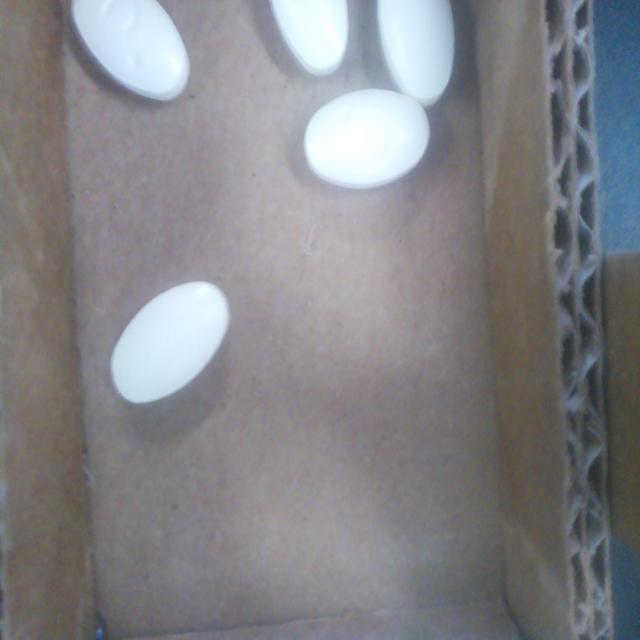pill: (110, 281, 229, 403), (304, 88, 430, 189), (71, 0, 190, 101), (377, 0, 454, 106), (269, 0, 348, 76)
